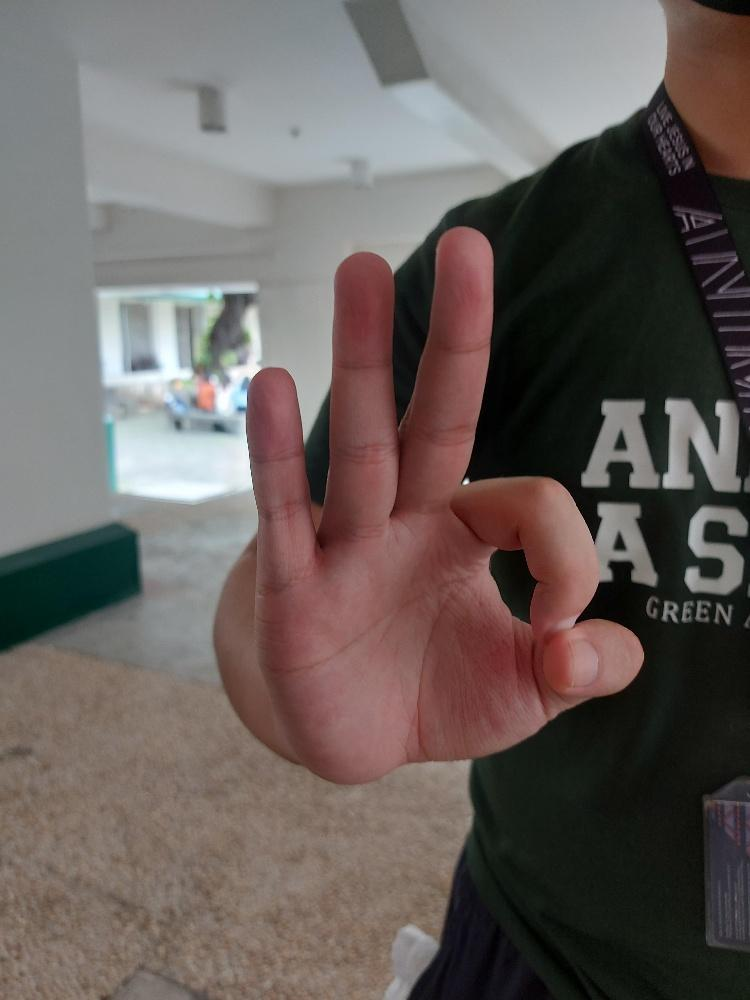f: (243, 221, 645, 788)
